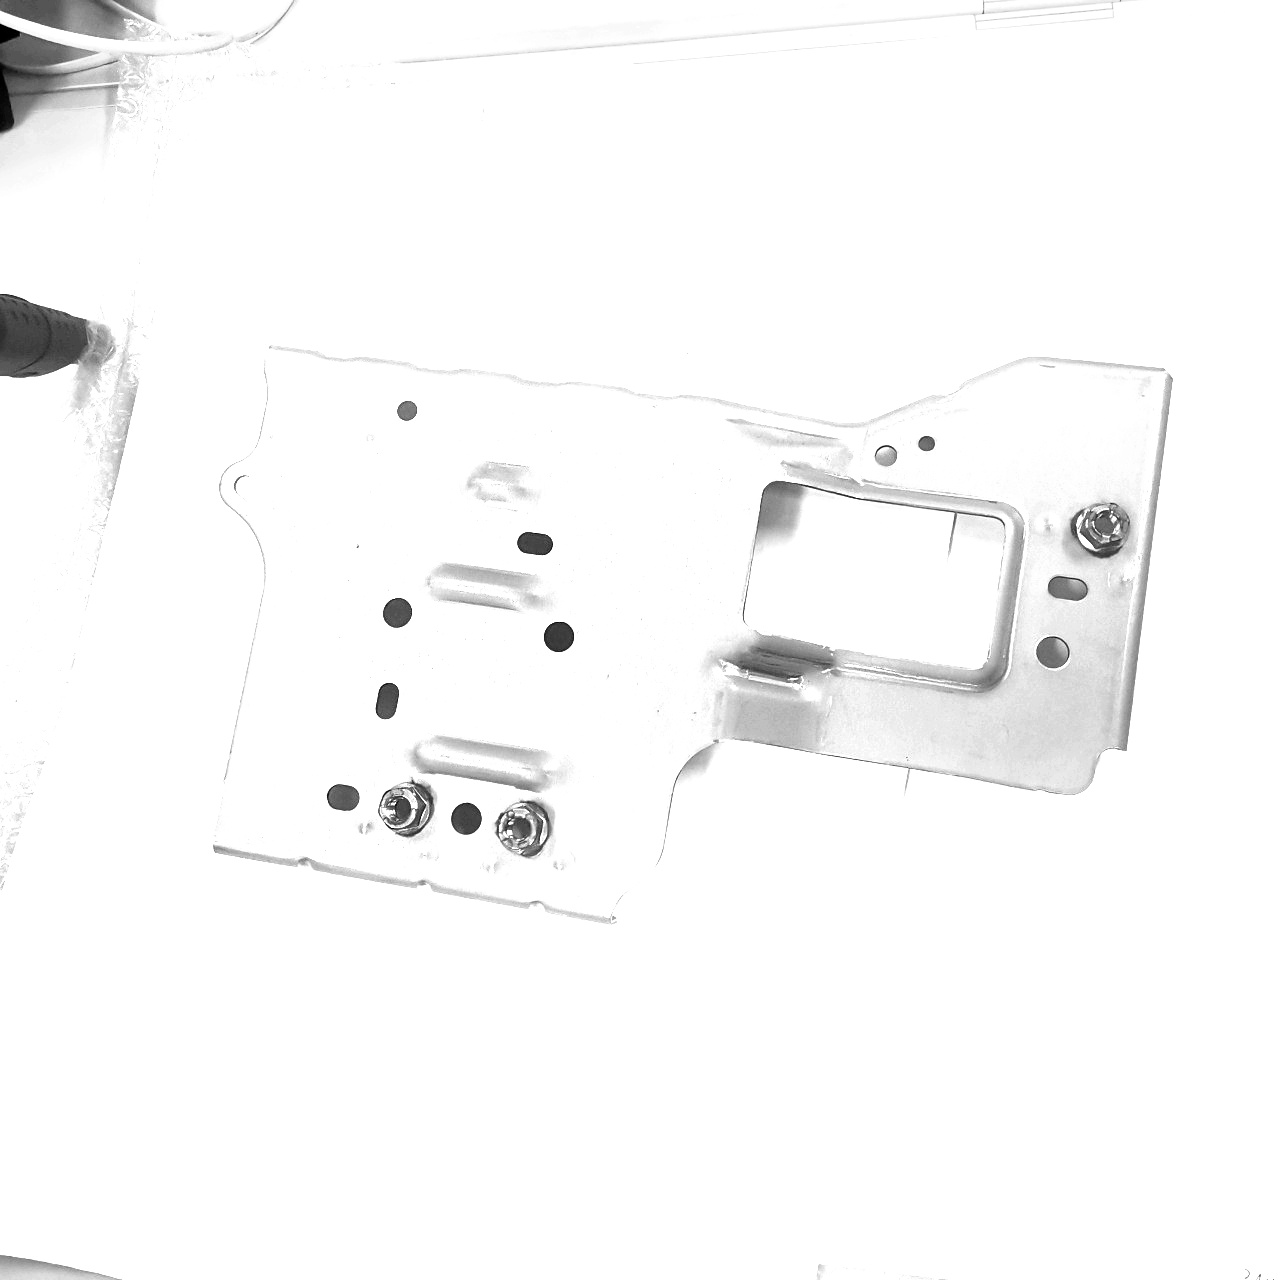dog: (372, 776, 440, 842), (1068, 496, 1132, 564), (492, 796, 556, 862)
